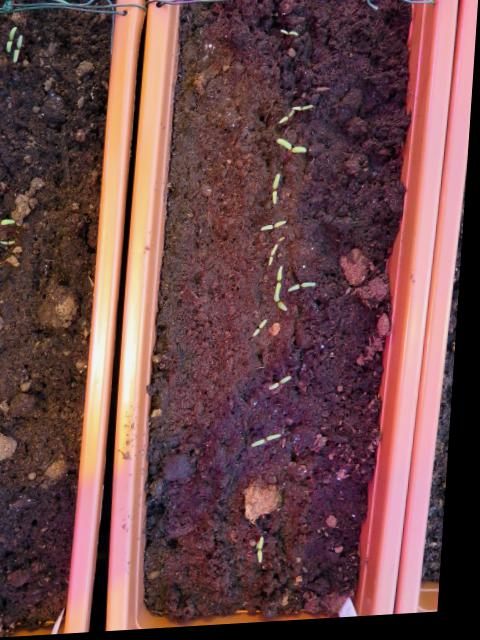crop: (272, 135, 313, 161), (267, 376, 303, 400), (253, 431, 291, 453), (287, 279, 324, 297), (259, 218, 293, 237), (252, 317, 274, 345), (270, 170, 284, 211), (259, 530, 272, 573), (275, 27, 302, 45)
